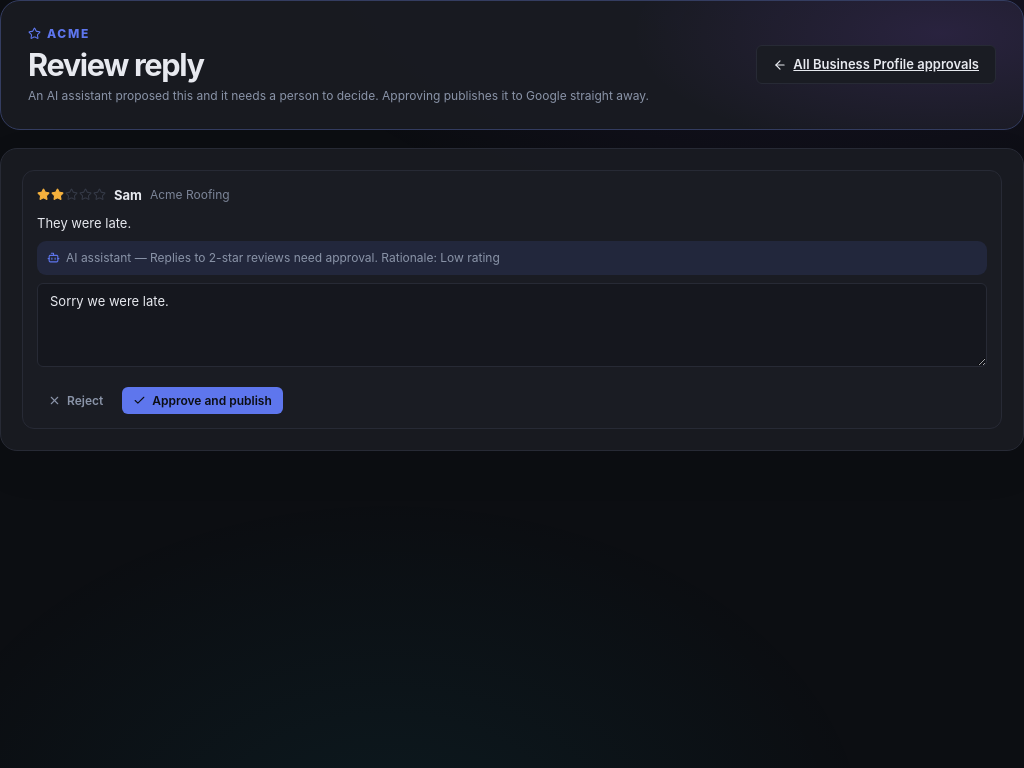
Test: opens a proposed reply from a notification link and publishes the edited text
The width and height of the screenshot is (1024, 768).
Expected: the text "They were late." is shown, [37,215,131,231]
Replace the text in the text box named "Reply to approve" with "Sorry we were late — we'll call ahead next time." at (512, 326), box [37,284,987,368]
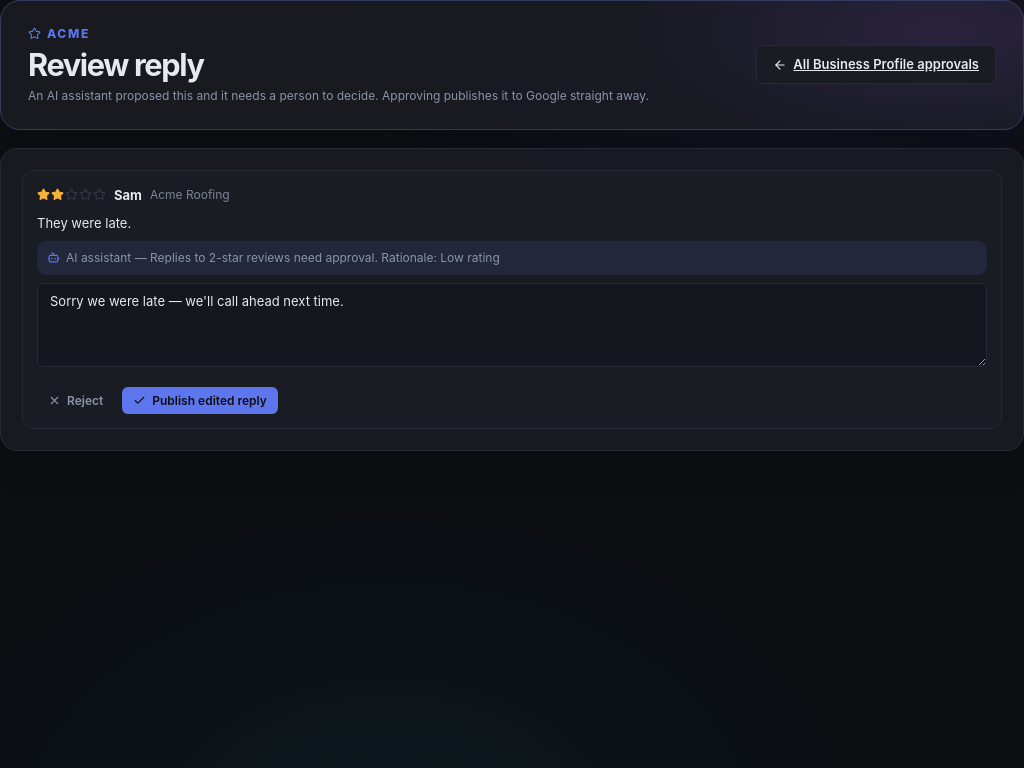
Click the button "Publish edited reply".
click(200, 401)  # box [122,388,278,414]
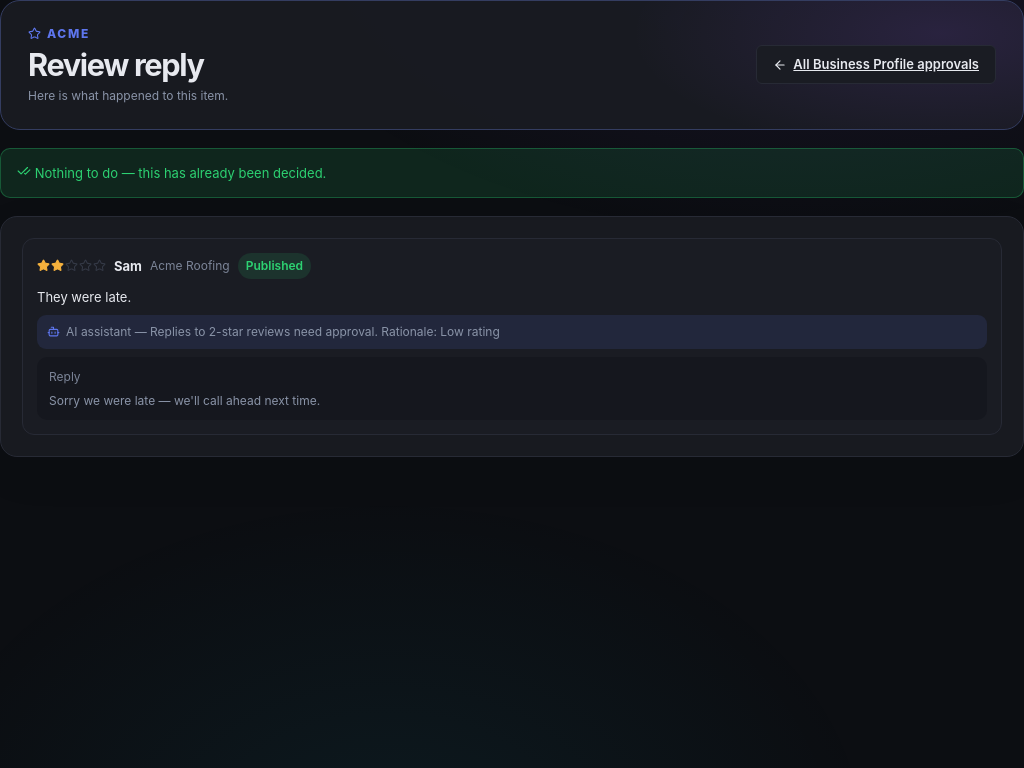
Expected: the button "Approve" is not shown
Now the text "Nothing to do — this has already been decided." is shown, box [17,164,326,180]
